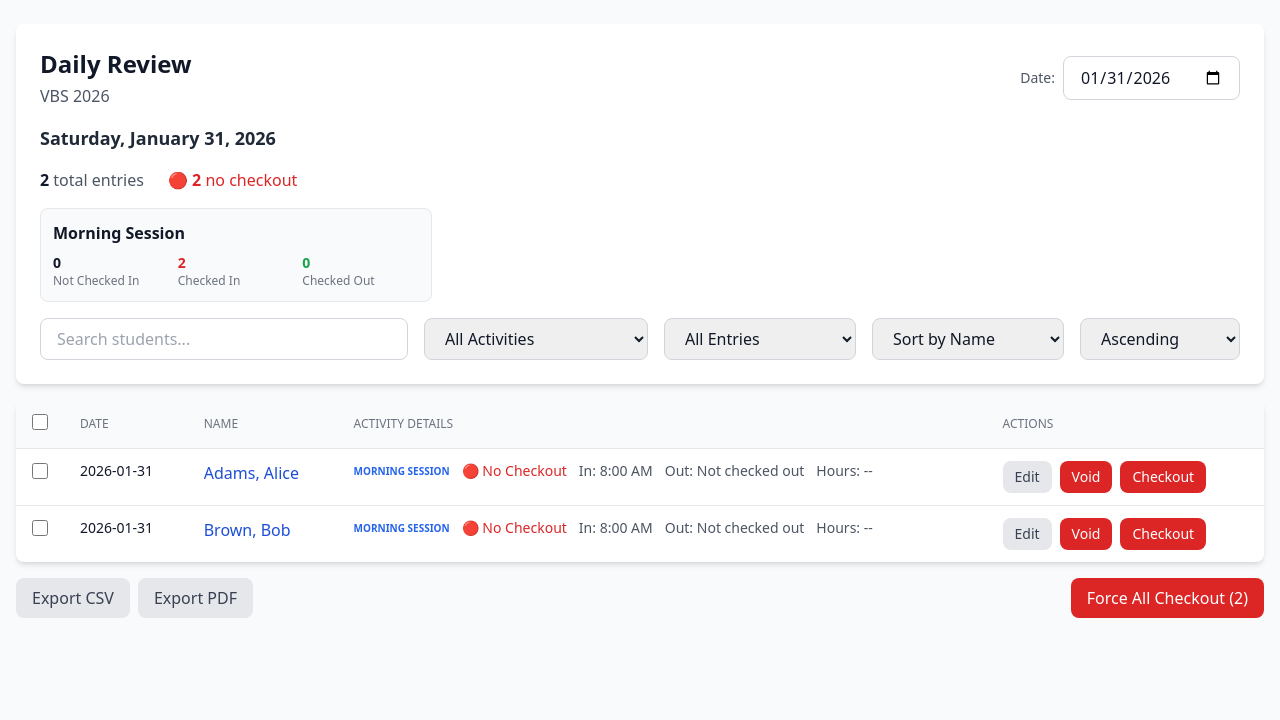
it: DailyReview Bulk Selection › should select all entries with the select-all checkbox
Click the checkbox named "Select all entries" at (40, 422), box [32,414,48,430]
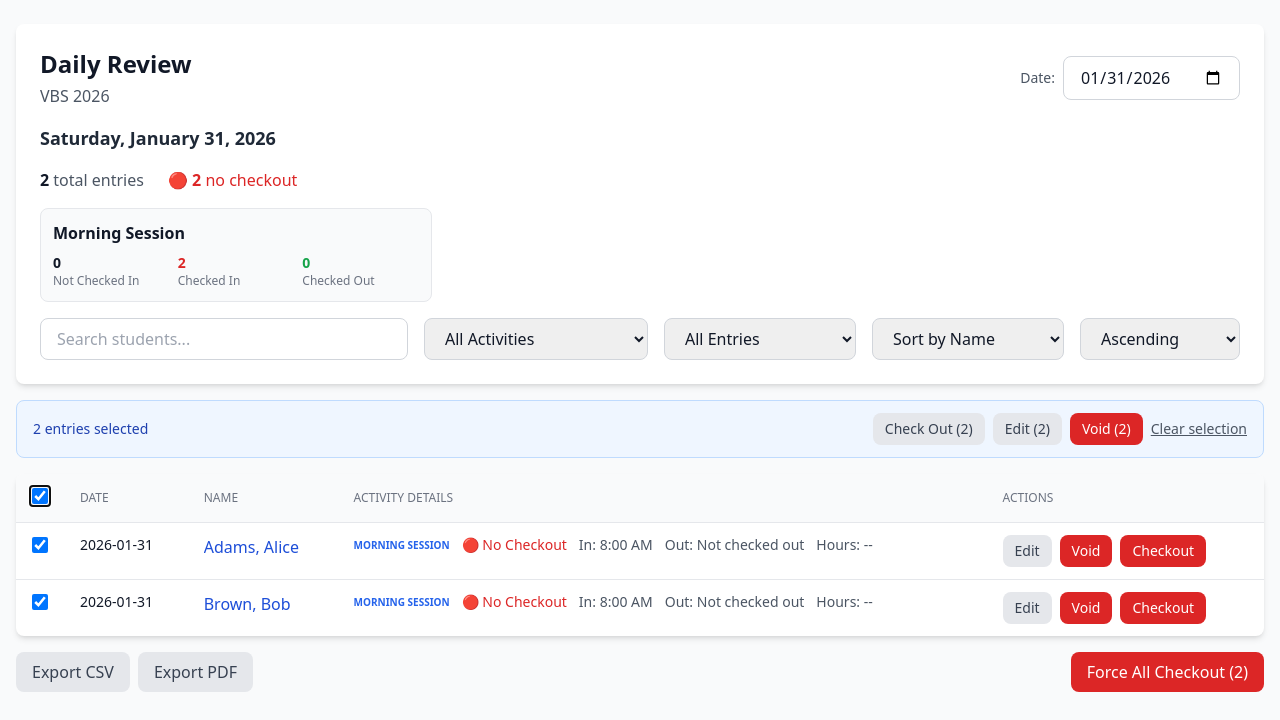
Check: the text "2 entries selected" is shown, box [33,419,148,439]
